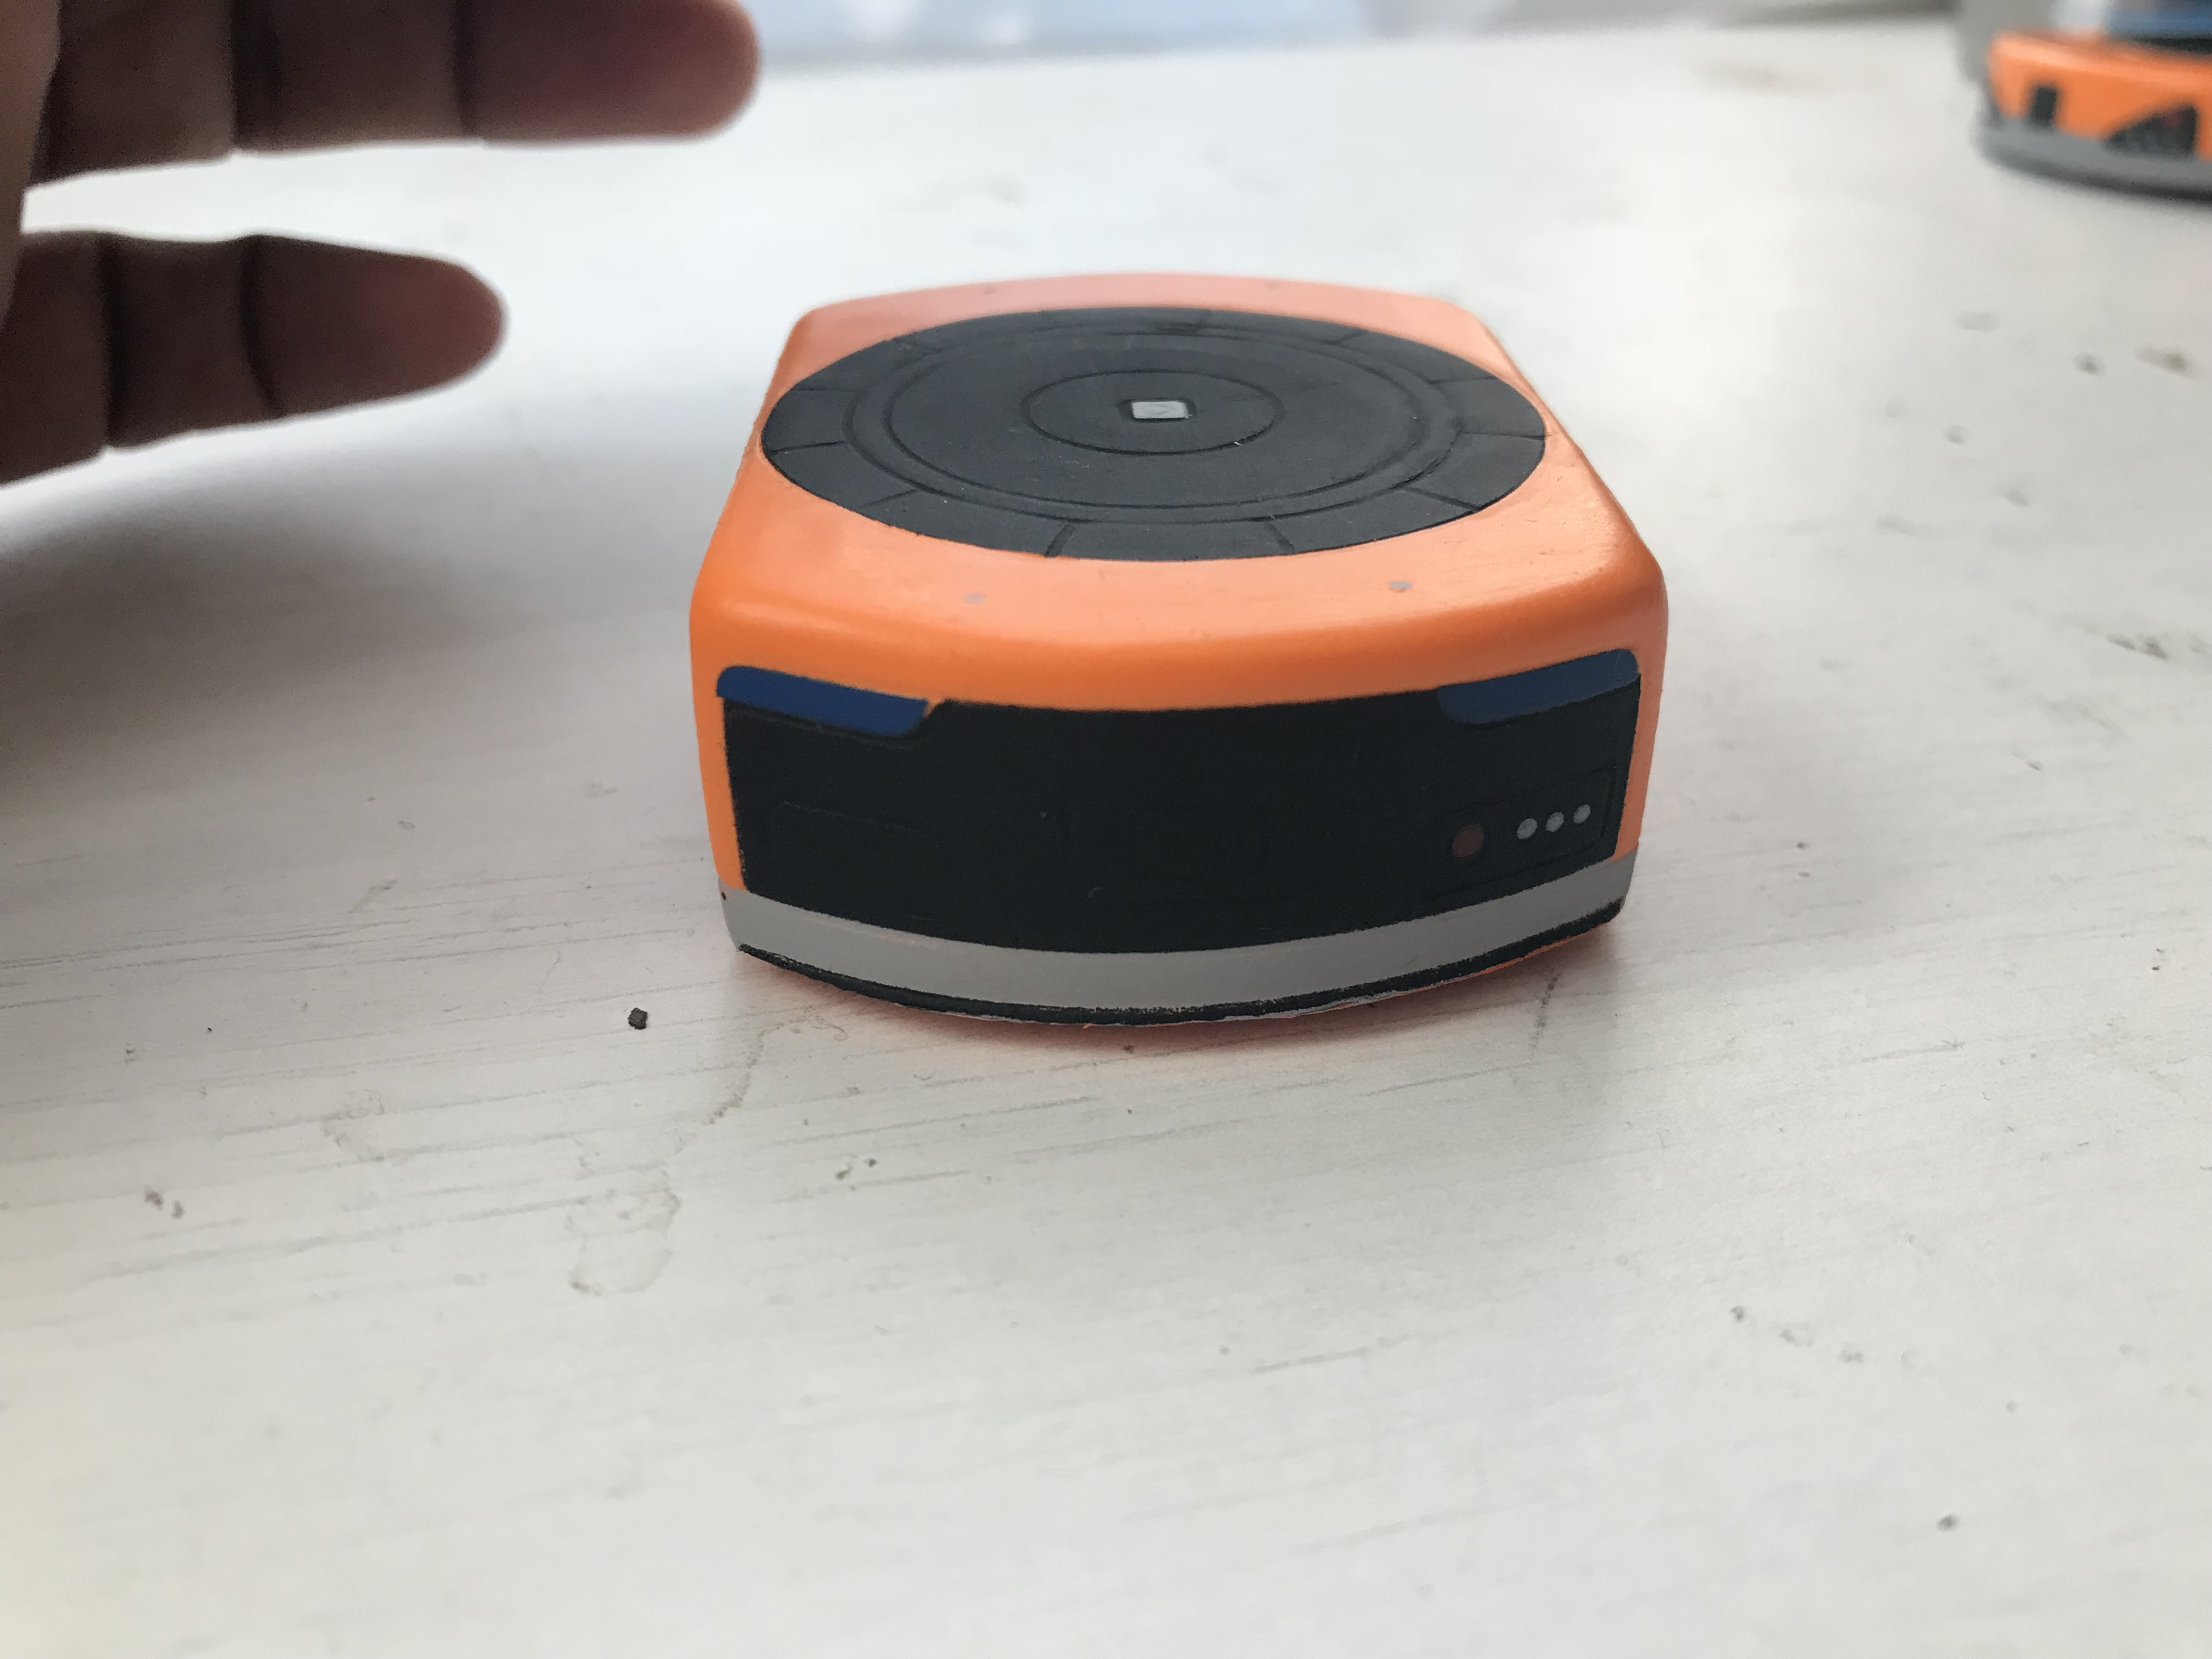amazon_bot: (669, 261, 1698, 1068)
